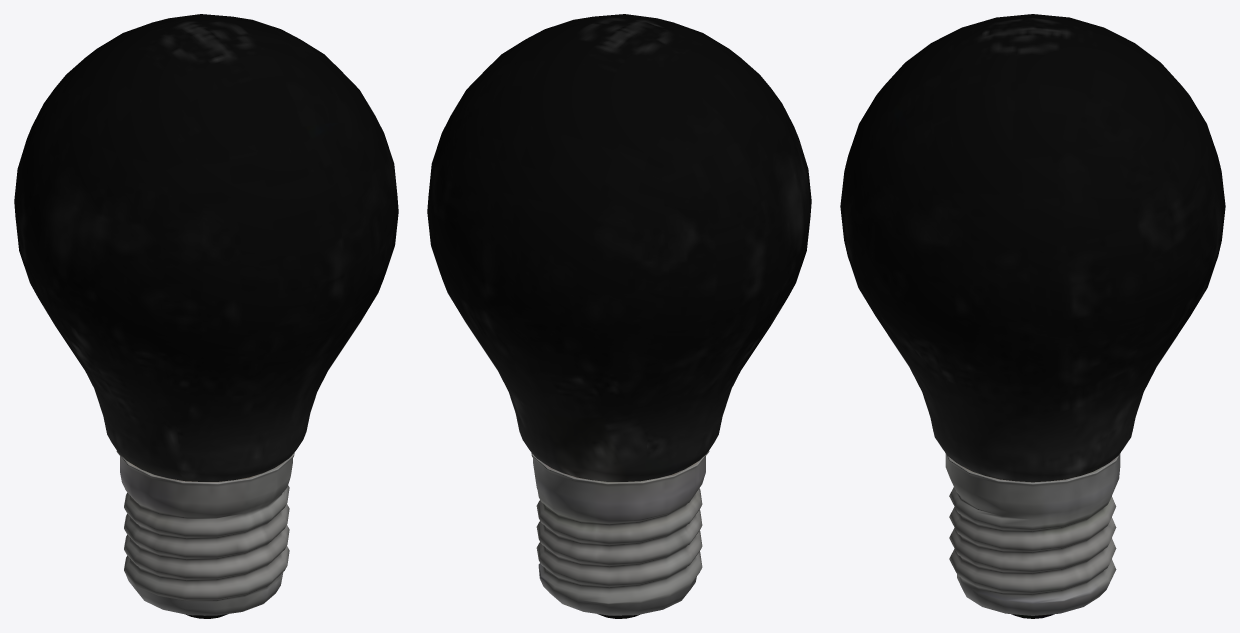
The model's file is light_bulb.glb.
3 views of the same model, side by side, from view 1: azimuth 30°, elevation 25°; view 2: azimuth 150°, elevation 25°; view 3: azimuth 270°, elevation 25° (orthographic).
Parts seen in each view (by area): view 1: lightbulb_01; view 2: lightbulb_01; view 3: lightbulb_01.
Part boxes in pixels (x1,y1,x2,y2): lightbulb_01: (14,14,398,618); lightbulb_01: (427,14,811,618); lightbulb_01: (840,14,1225,618).
Bounding box in the file's own units: 0.6662 × 1.11 × 0.6662.
2 materials, 2 textured.
